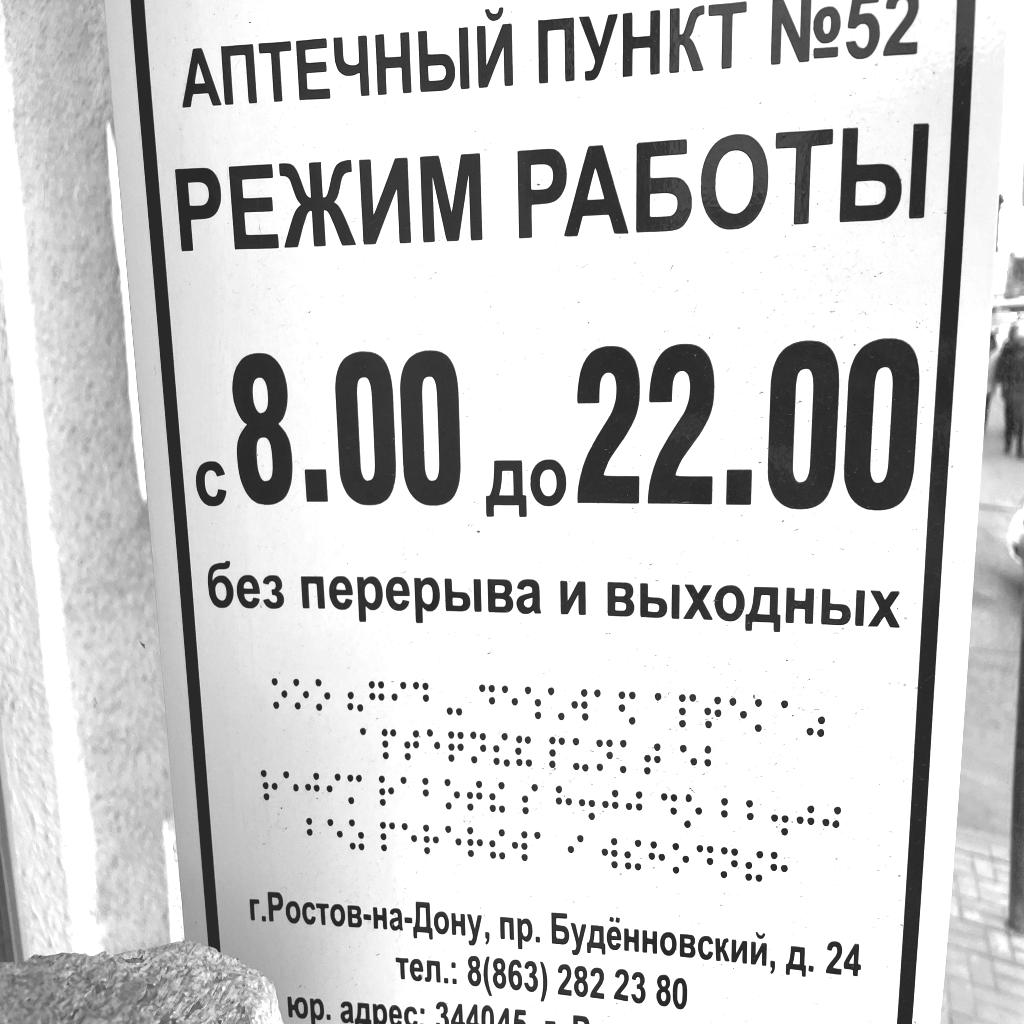_n: (595, 736, 614, 774), (719, 845, 739, 880), (469, 731, 487, 765)
_y: (572, 736, 590, 773)
a: (653, 690, 672, 729), (594, 689, 612, 725), (781, 699, 799, 733), (533, 829, 551, 862), (399, 774, 415, 808), (359, 726, 375, 758)
b: (422, 776, 438, 810), (304, 816, 320, 849)
ch: (447, 729, 465, 763)
d: (695, 843, 715, 878), (660, 792, 678, 827), (412, 681, 430, 715), (478, 683, 496, 717)
defis: (446, 681, 463, 717)
e: (729, 696, 748, 732), (501, 684, 519, 720), (443, 823, 461, 859), (282, 768, 299, 802), (325, 814, 342, 848), (400, 820, 417, 854), (426, 728, 442, 761)
g: (368, 680, 385, 713)
gh: (304, 771, 320, 802)
i: (566, 833, 584, 868), (390, 680, 408, 714), (326, 771, 341, 803)
iKratkoe: (515, 733, 534, 768)
ii: (743, 849, 765, 883), (492, 732, 511, 768), (488, 777, 506, 815), (488, 827, 507, 861), (623, 839, 642, 872)
k: (754, 698, 774, 732), (619, 738, 637, 774)
kavichki1: (348, 677, 364, 713)
kavichki2: (806, 702, 825, 739)
m: (347, 772, 363, 806)
o: (683, 792, 703, 829), (444, 773, 461, 811), (671, 842, 690, 876), (293, 677, 310, 711), (315, 677, 331, 712), (272, 676, 288, 710)
p: (678, 692, 697, 729), (549, 734, 567, 772), (379, 818, 396, 852), (381, 727, 398, 760)
r: (422, 824, 440, 860), (261, 768, 279, 802), (465, 827, 483, 861), (378, 774, 395, 809)
s: (521, 780, 539, 817)
sh: (524, 686, 543, 721)
t: (466, 775, 484, 811), (704, 695, 722, 729), (643, 742, 661, 776), (403, 728, 421, 761)
tochka: (769, 800, 789, 837), (578, 783, 596, 822)
v: (569, 687, 589, 724), (511, 829, 528, 864), (601, 837, 619, 870)
x: (769, 850, 789, 885), (648, 841, 666, 876)
ya: (618, 689, 637, 729)
yo: (547, 684, 565, 721)
z: (347, 816, 363, 851)
